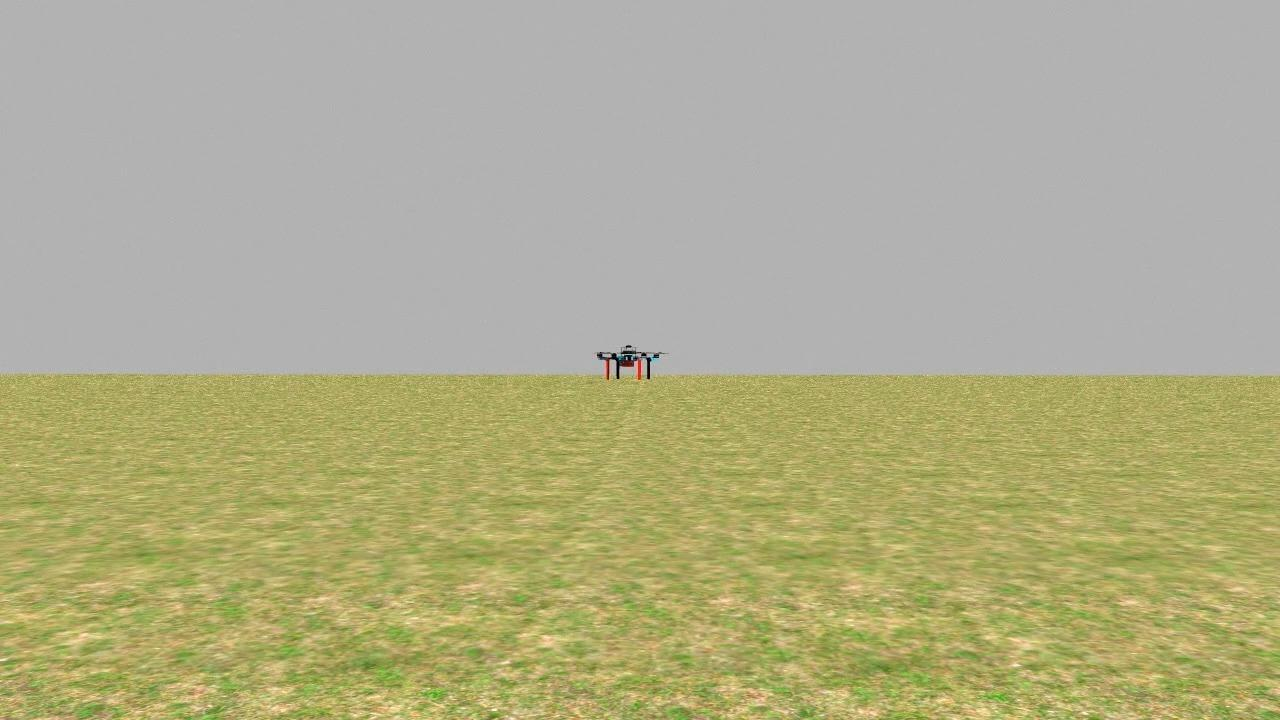UAV: (588, 339, 671, 390)
